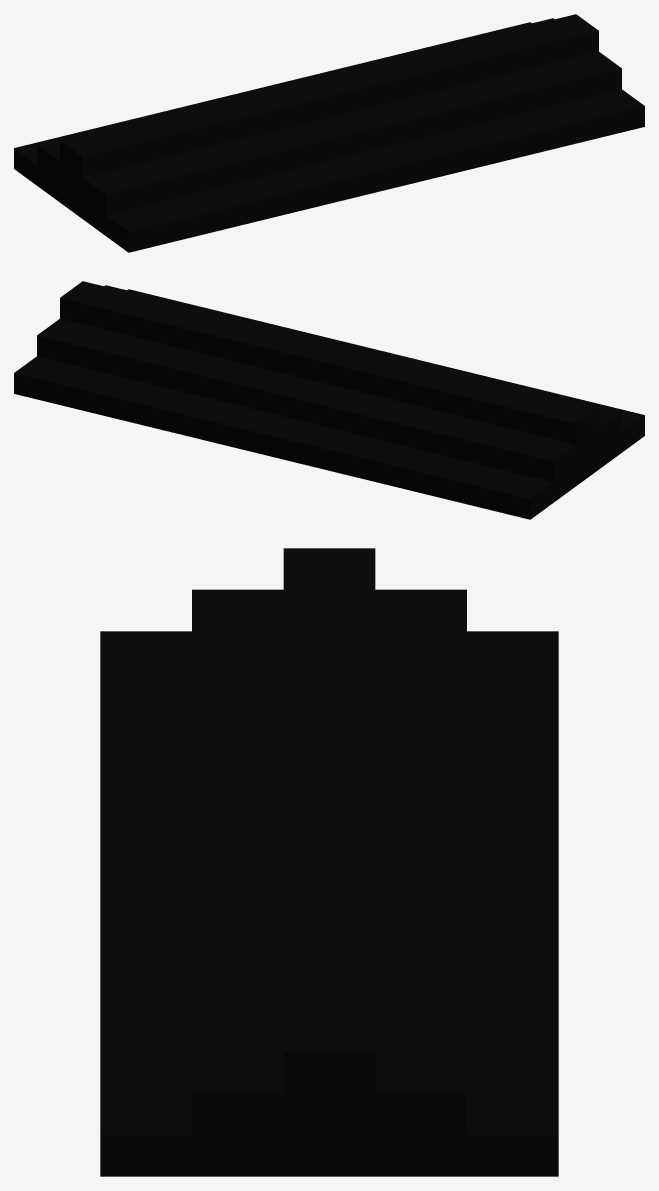
The model's file is tomb_d_b_lid.obj.
The picture shows the model from 3 angles, top to bottom: view 1: azimuth 30°, elevation 25°; view 2: azimuth 150°, elevation 25°; view 3: azimuth 270°, elevation 25°; orthographic projection. The views are drawn at different scales.
Bounding box in the file's own units: 2.6 × 0.3 × 1.
1 material, 1 textured.
